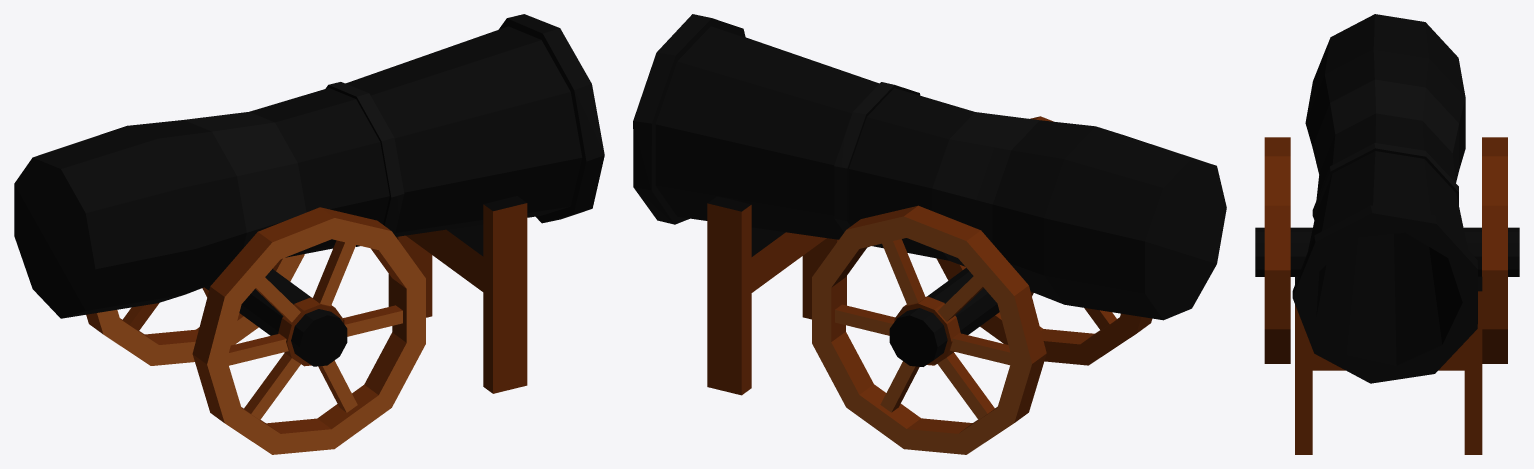
The model's file is cannon.fbx.
3 renders of one model, left to right at view 1: azimuth 30°, elevation 25°; view 2: azimuth 150°, elevation 25°; view 3: azimuth 270°, elevation 25°, orthographic. The views are drawn at different scales.
Parts seen in each view (by area): view 1: body, wheel, support; view 2: body, wheel, support; view 3: body, wheel, support.
Part boxes in pixels (x1,y1,x2,y2): body: (14,14,604,366); wheel: (86,207,425,454); support: (388,196,527,393); body: (633,14,1226,366); wheel: (812,116,1152,454); support: (707,196,846,395); body: (1255,14,1519,383); wheel: (1264,137,1507,363); support: (1295,276,1482,454).
Bounding box in the file's own units: 380 × 224 × 195.
